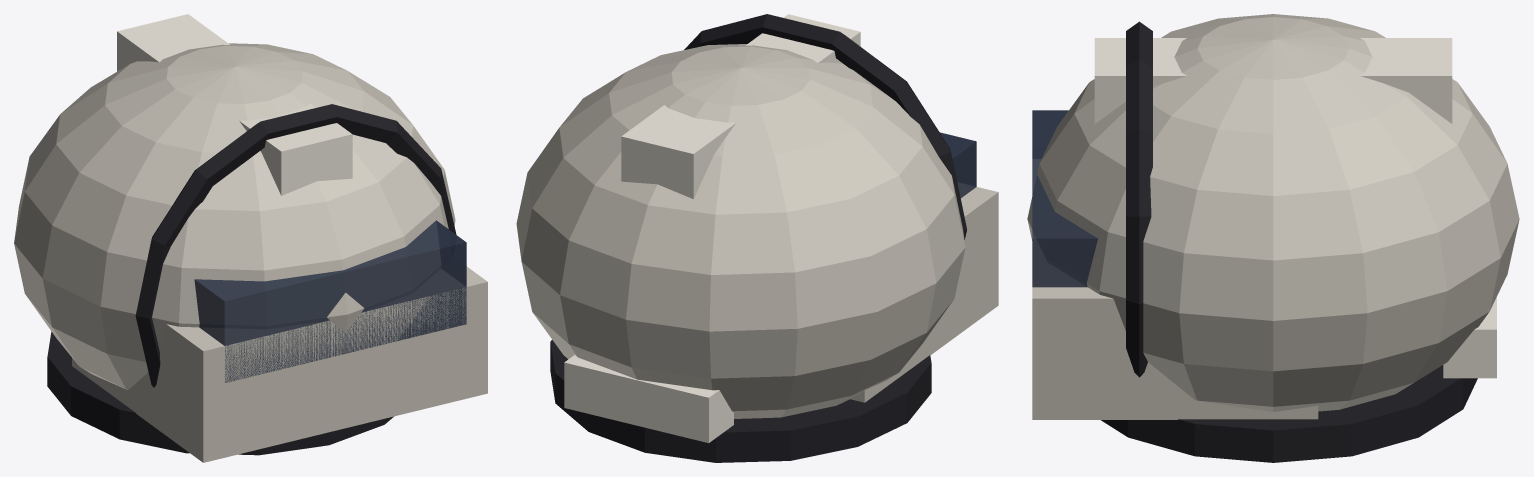
The model's file is helmet.glb.
The picture shows the model from 3 angles, left to right: view 1: azimuth 30°, elevation 25°; view 2: azimuth 150°, elevation 25°; view 3: azimuth 270°, elevation 25°; orthographic projection. The views are drawn at different scales.
Parts seen in each view (by area): view 1: helmet; view 2: helmet; view 3: helmet.
Part boxes in pixels (x1,y1,x2,y2): helmet: (14, 14, 487, 462); helmet: (516, 14, 998, 462); helmet: (1027, 14, 1519, 462).
Bounding box in the file's own units: 0.27 × 0.2214 × 0.2754.
